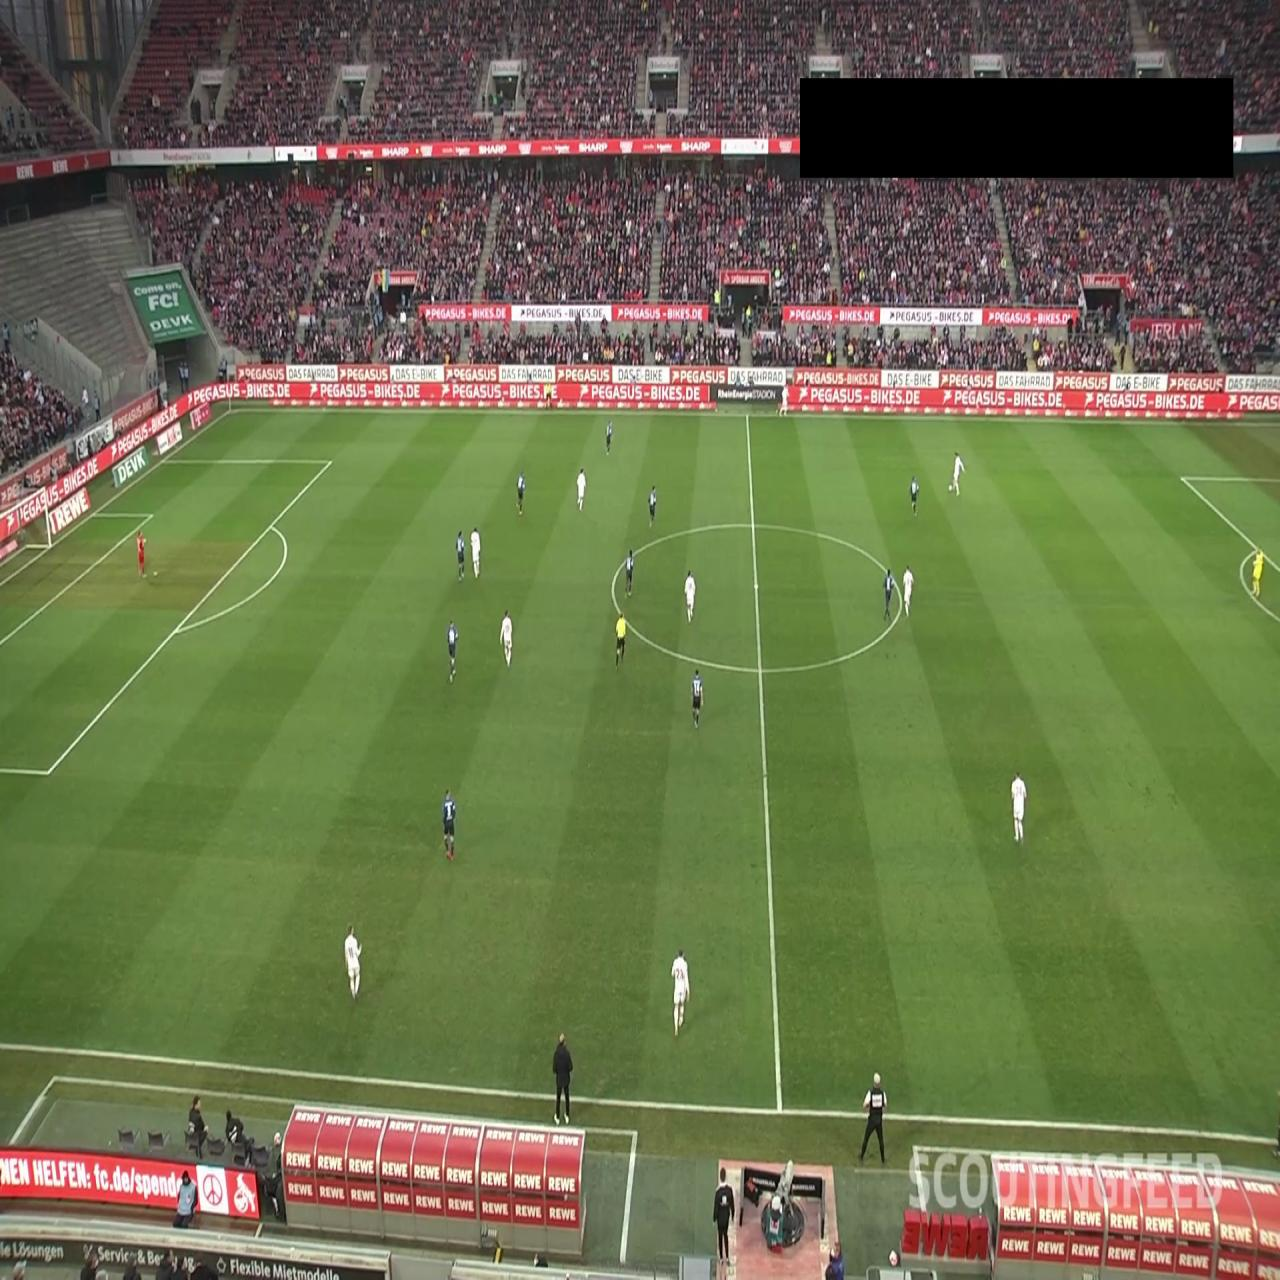ball: (948, 483, 953, 493)
goalkeeper: (1251, 545, 1264, 599), (137, 528, 146, 578)
player: (671, 947, 690, 1036), (344, 922, 362, 1000), (1011, 769, 1027, 842), (442, 787, 457, 863), (691, 667, 704, 730), (500, 608, 513, 670), (446, 618, 458, 682), (882, 567, 896, 621), (902, 564, 914, 618), (684, 569, 696, 623), (952, 451, 966, 496), (470, 528, 481, 578), (456, 529, 465, 582), (576, 467, 586, 511), (625, 548, 634, 596), (517, 470, 526, 514), (648, 485, 657, 527), (910, 474, 919, 516), (780, 385, 790, 418), (606, 419, 613, 454)
referee: (614, 610, 626, 670), (546, 381, 554, 412)
